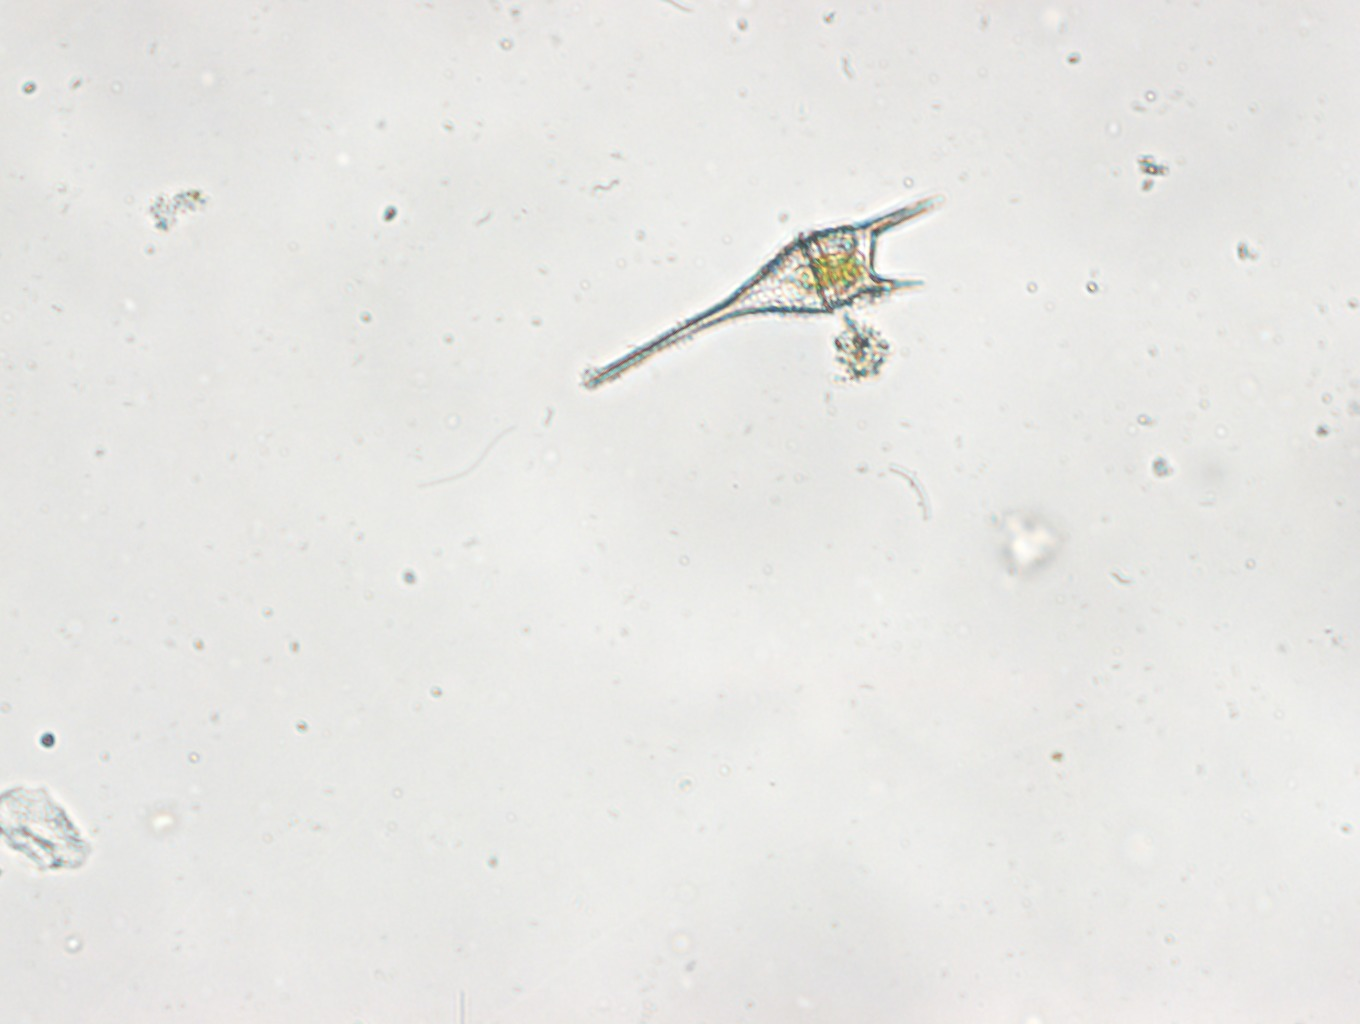ceratium furca: (566, 191, 950, 395)
